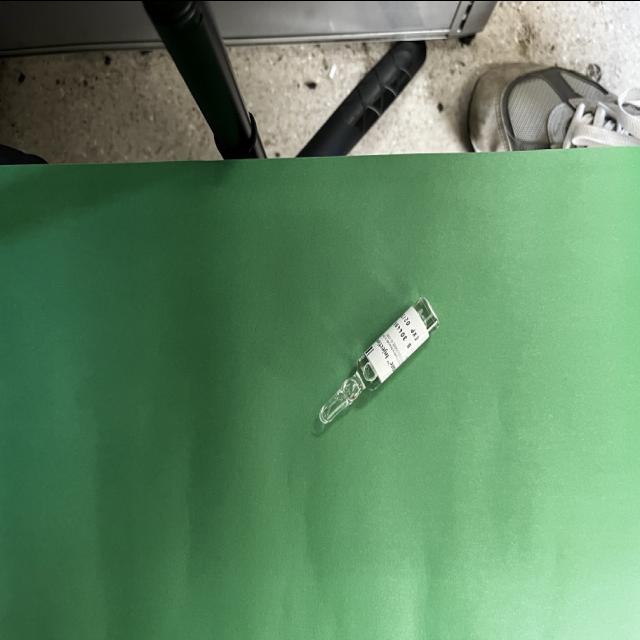Ampoules: (318, 296, 439, 423)
